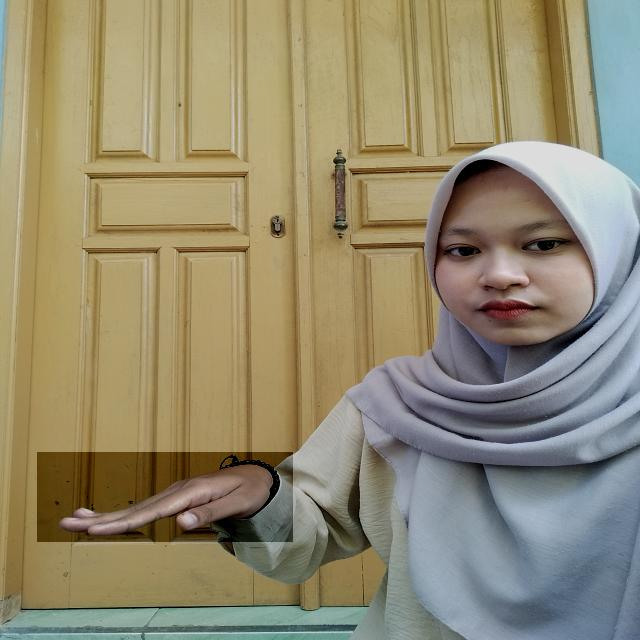adik: (37, 452, 293, 542)
